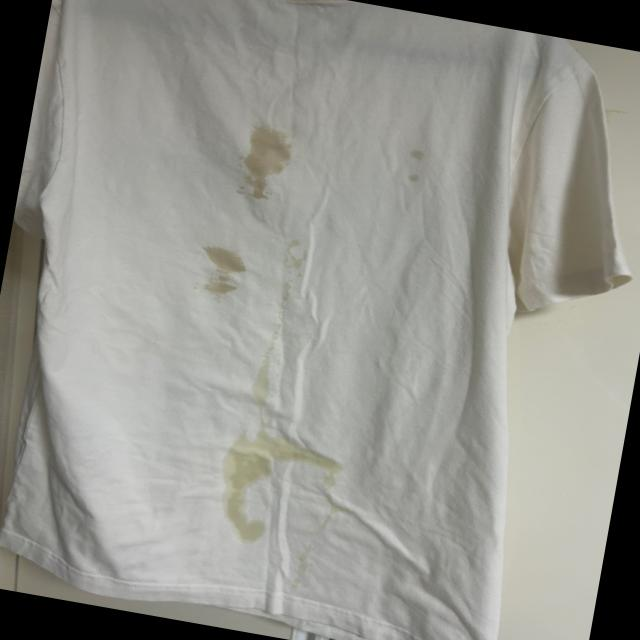stain: (226, 420, 352, 490), (197, 465, 281, 551), (237, 116, 294, 206), (192, 241, 250, 306), (264, 232, 314, 305), (251, 337, 284, 409), (404, 142, 432, 186)
